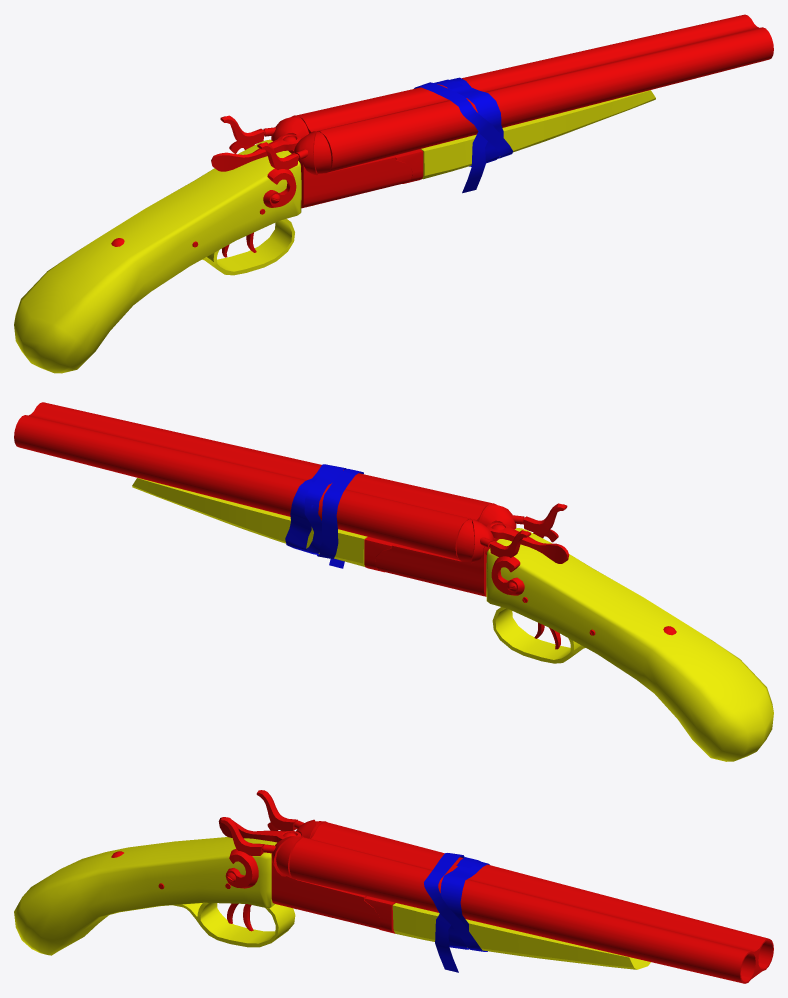
Rendered from Shotgun.fbx.
3 renders of one model, top to bottom at view 1: azimuth 30°, elevation 25°; view 2: azimuth 150°, elevation 25°; view 3: azimuth 330°, elevation 25°, orthographic.
Visible parts, largest first — view 1: Barrels, WoodPart, MetalPart, DuctTape, RightTrigger, LeftTrigger; view 2: Barrels, WoodPart, MetalPart, DuctTape, LeftTrigger, RightTrigger; view 3: Barrels, WoodPart, MetalPart, DuctTape, RightTrigger, LeftTrigger.
Part boxes in pixels (box(x1,y1,x2,y2)): Barrels: box(296, 14, 773, 183); WoodPart: box(14, 139, 312, 373); MetalPart: box(111, 115, 412, 257); DuctTape: box(414, 77, 513, 193); RightTrigger: box(257, 142, 298, 207); LeftTrigger: box(220, 115, 264, 153); Barrels: box(14, 402, 491, 572); WoodPart: box(486, 528, 773, 761); MetalPart: box(375, 503, 676, 649); DuctTape: box(285, 464, 363, 568); LeftTrigger: box(490, 530, 531, 595); RightTrigger: box(523, 503, 567, 542); Barrels: box(289, 822, 773, 983); WoodPart: box(14, 837, 296, 955); MetalPart: box(111, 817, 380, 931); DuctTape: box(424, 853, 489, 972); RightTrigger: box(220, 817, 264, 888); LeftTrigger: box(256, 790, 297, 831).
Bounding box in the file's own units: 52.69 × 13.24 × 6.07.
